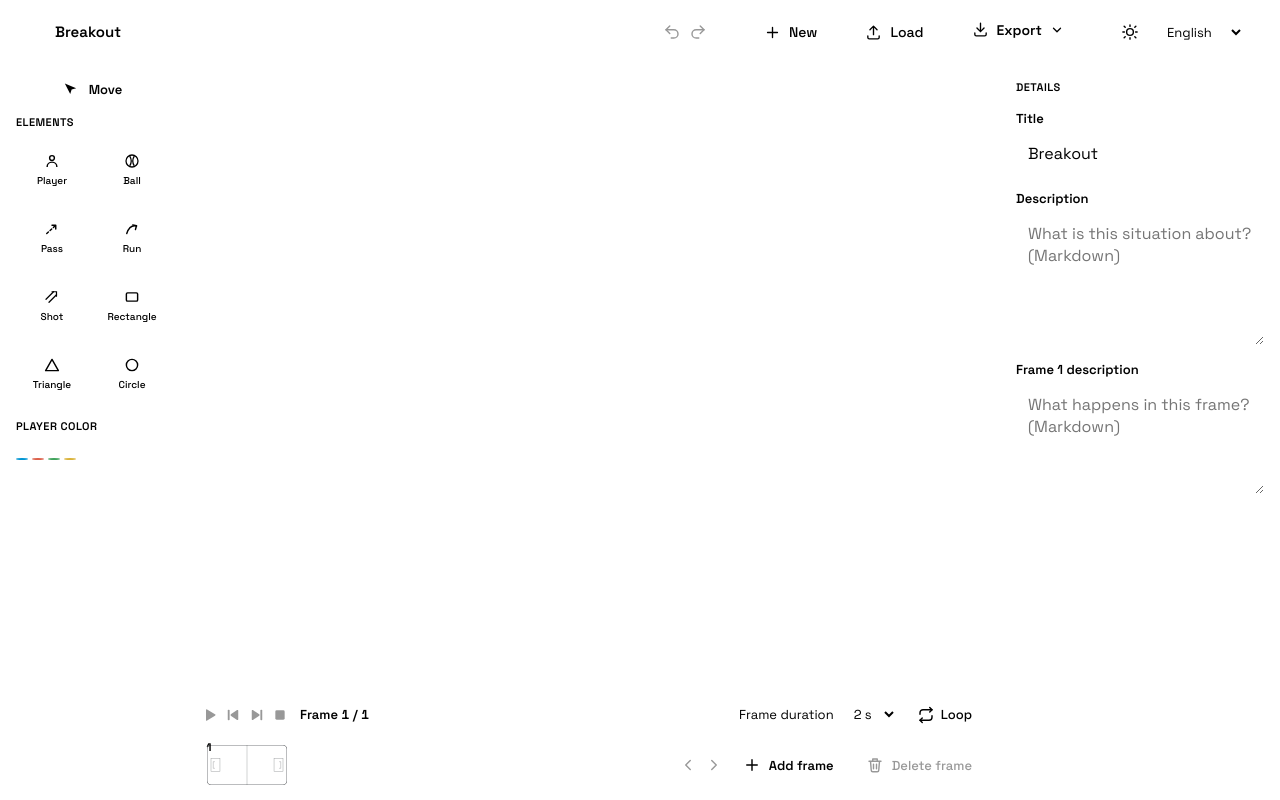
Test: editor page › details panel › a blank title shows the default title in the header
The image size is (1280, 800).
Clear the field labelled "Title" at (1140, 154), box x1=1016 y1=133 x2=1264 y2=174
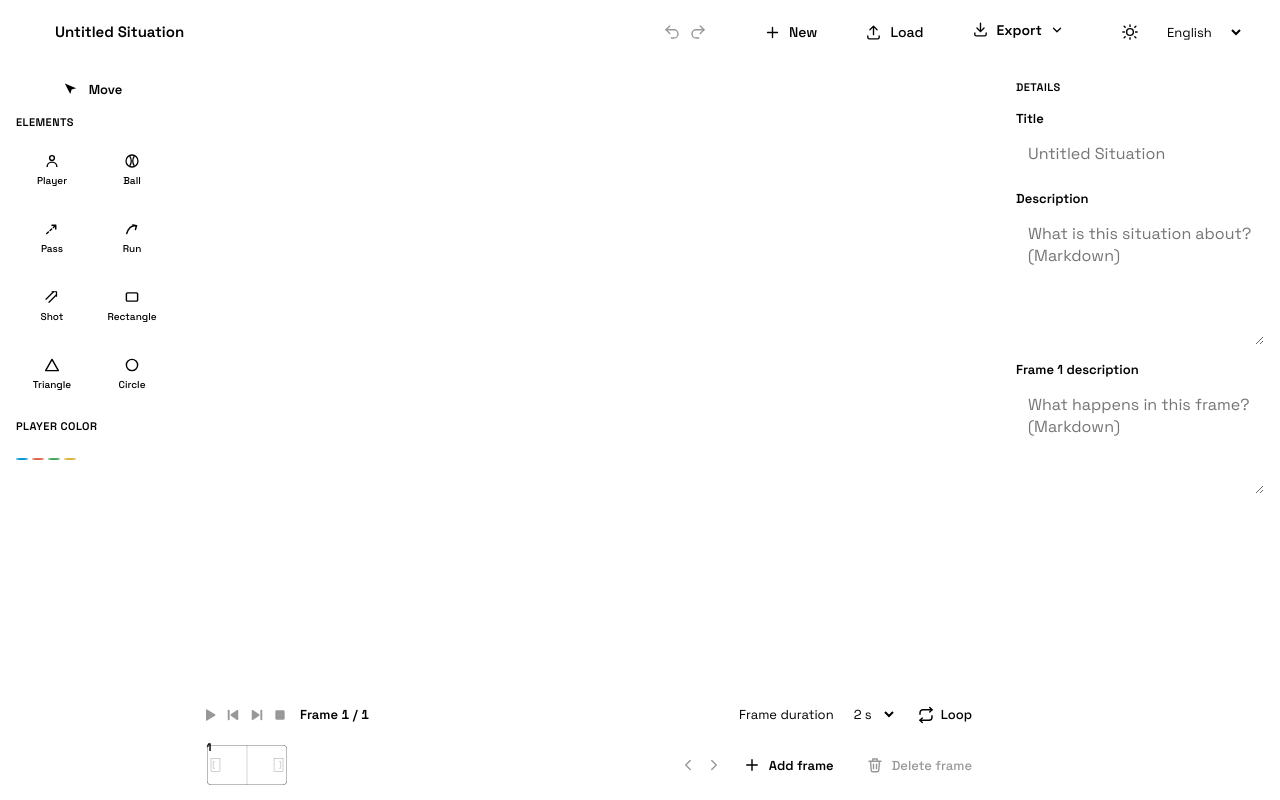
Result: the heading "Untitled Situation" is shown at x1=55 y1=22 x2=184 y2=41
